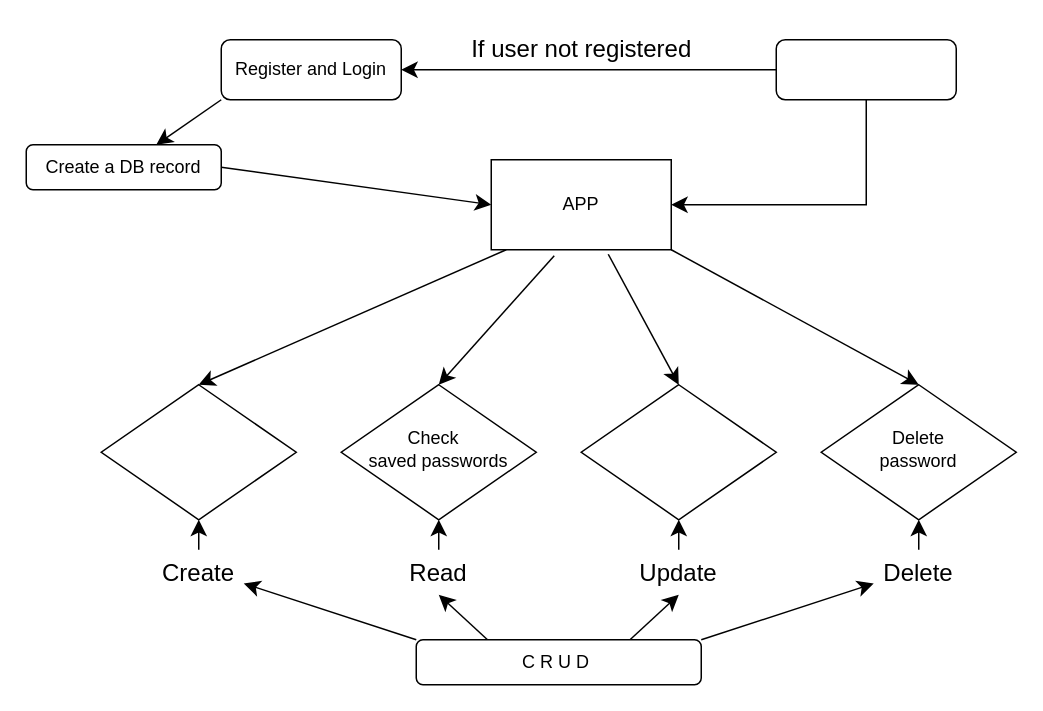
Some shapes in this 1043 by 711 pixel diagram are drawn without their labels. Each missing label, with the centre of its shape:
"Create new password" goes at (198,451).
"Login" goes at (865,69).
"Modify password" goes at (678,451).
